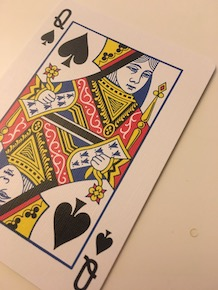QueenOfSpades: (1, 1, 216, 289)
